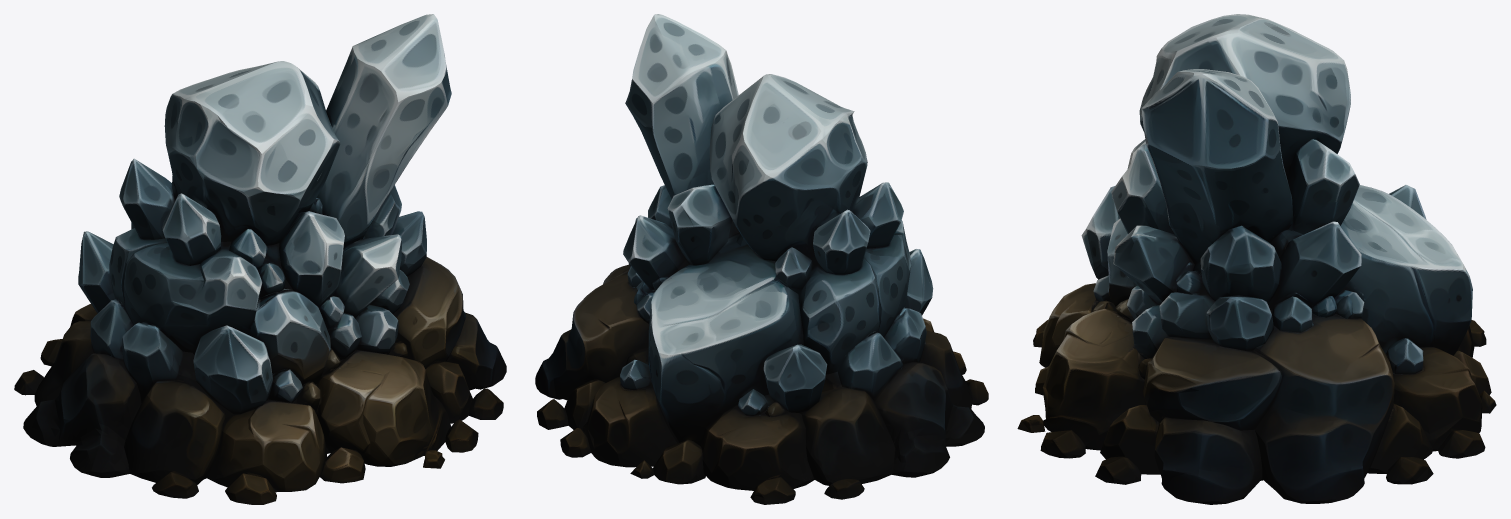
Rendered from SM_Ore11.fbx.
The picture shows the model from 3 angles, left to right: view 1: azimuth 30°, elevation 25°; view 2: azimuth 150°, elevation 25°; view 3: azimuth 270°, elevation 25°; orthographic projection. The views are drawn at different scales.
Visible parts, largest first — view 1: Ore11; view 2: Ore11; view 3: Ore11.
Part boxes in pixels (x1=…): Ore11: x1=14, y1=14, x2=506, y2=504; Ore11: x1=535, y1=14, x2=988, y2=504; Ore11: x1=1017, y1=14, x2=1496, y2=504.
Size of the model in its own units: 136 by 113 by 124.
Materials: 1 (1 with a texture image).
